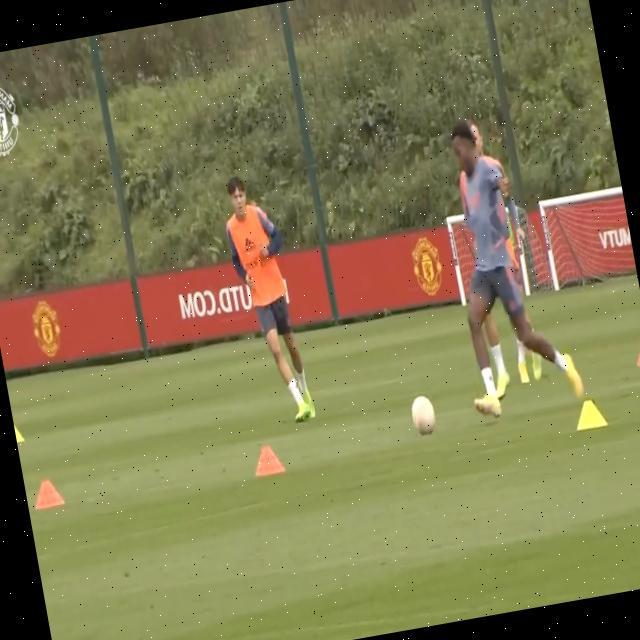Adidas: (241, 231, 257, 255)
